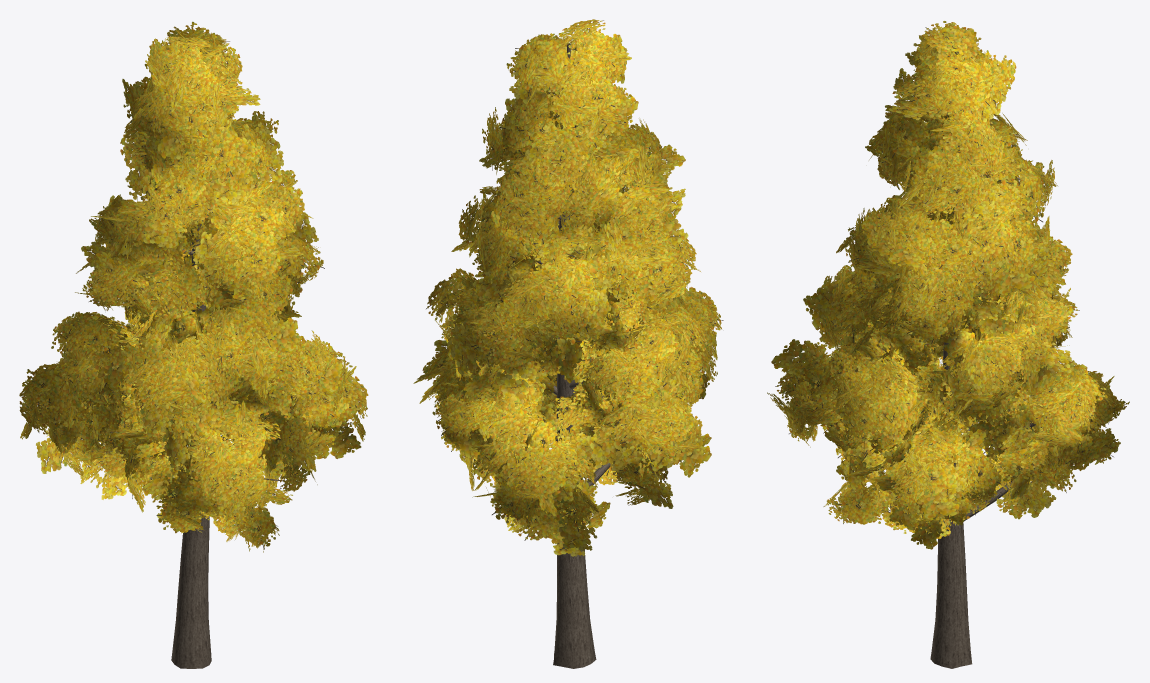
The model's file is Ginkgo_A.fbx.
The picture shows the model from 3 angles, left to right: view 1: azimuth 30°, elevation 25°; view 2: azimuth 150°, elevation 25°; view 3: azimuth 270°, elevation 25°; orthographic projection.
Parts seen in each view (by area): view 1: Ginkgo_A; view 2: Ginkgo_A; view 3: Ginkgo_A.
Boxes of the visible parts, <box> form: Ginkgo_A: <box>19,21,368,668</box>; Ginkgo_A: <box>413,19,723,668</box>; Ginkgo_A: <box>767,21,1129,668</box>.
Size of the model in its own units: 6.35 by 12.12 by 6.5.
2 materials, 2 textured.
